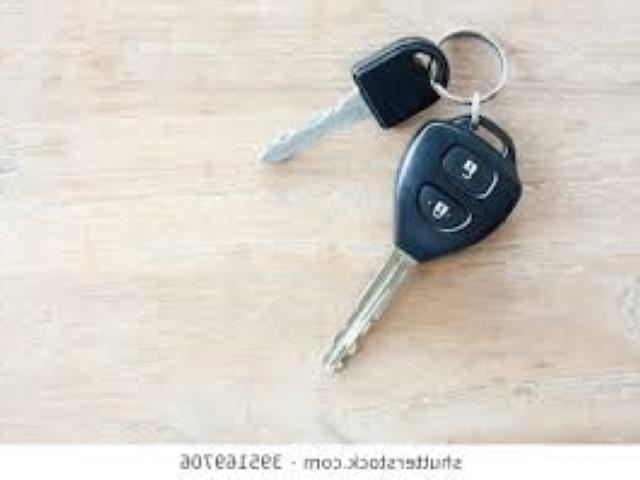key: (322, 113, 522, 480)
